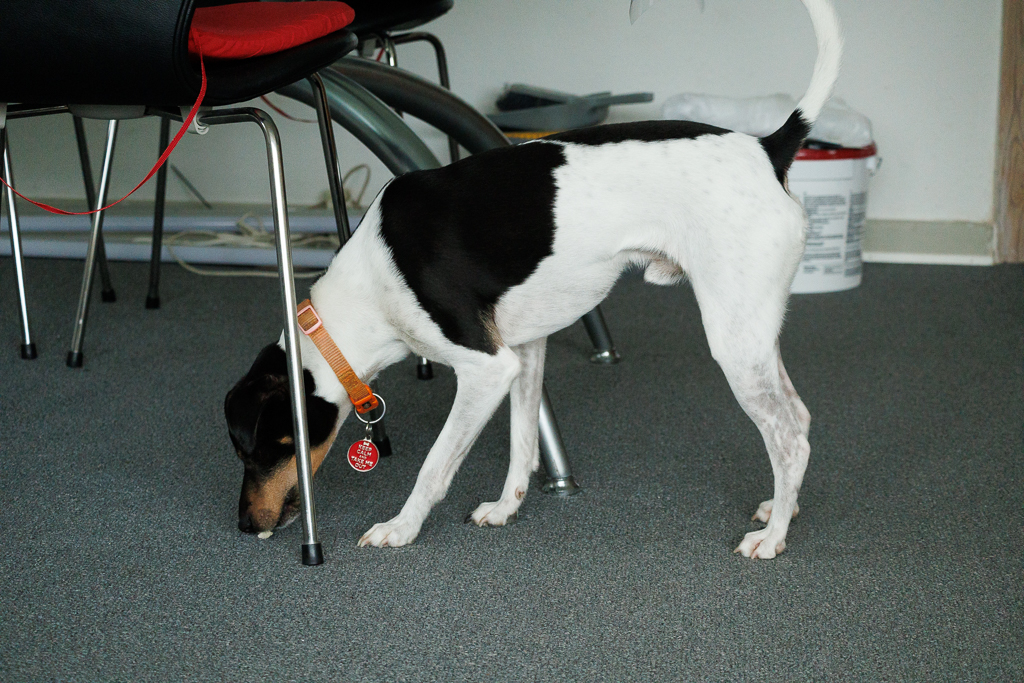Dog: (218, 0, 851, 580)
